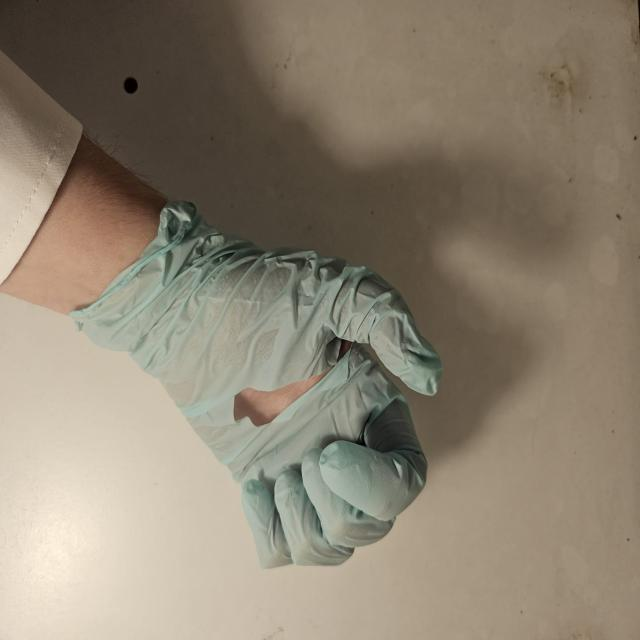gloves_damaged: (70, 194, 446, 566)
